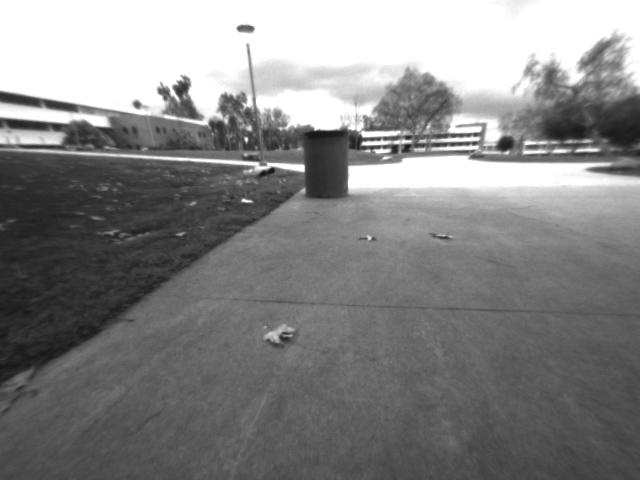trashcan: (305, 130, 349, 203)
